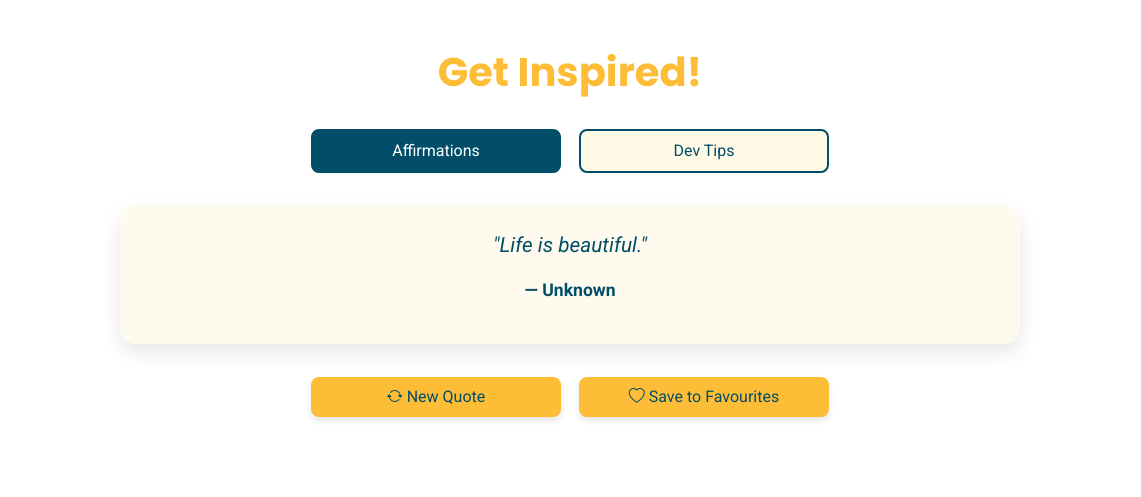
Scenario: QuoteCard › shows an alert when a quote is saved to favourites
This screenshot has width=1141, height=497.
Expected: the text "\"Life is beautiful.\"" is shown, [493,230,647,261]
Click the button "Save to Favourites" at (704, 397), box [579,377,829,417]
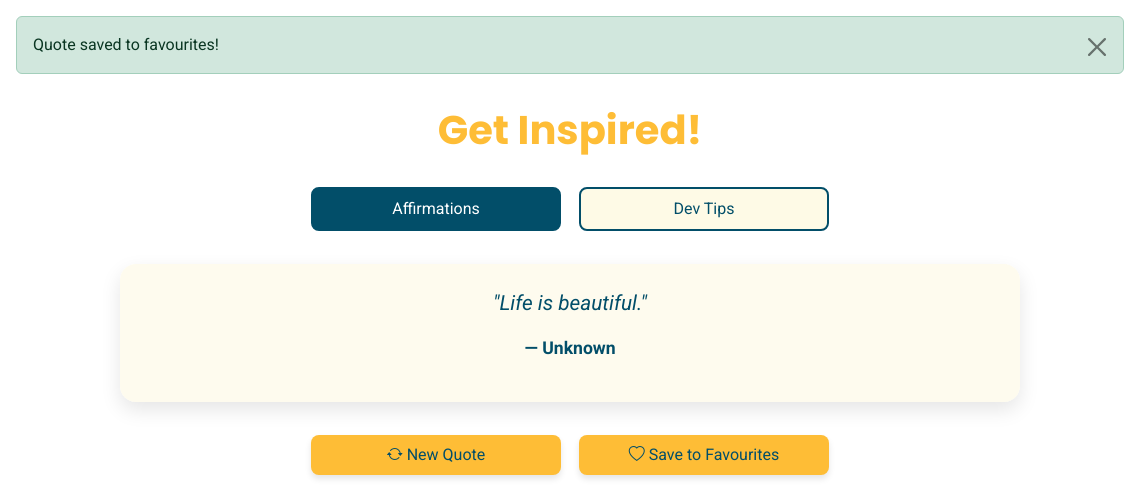
Now the message reads "Quote saved to favourites!", box [33,35,219,54]
